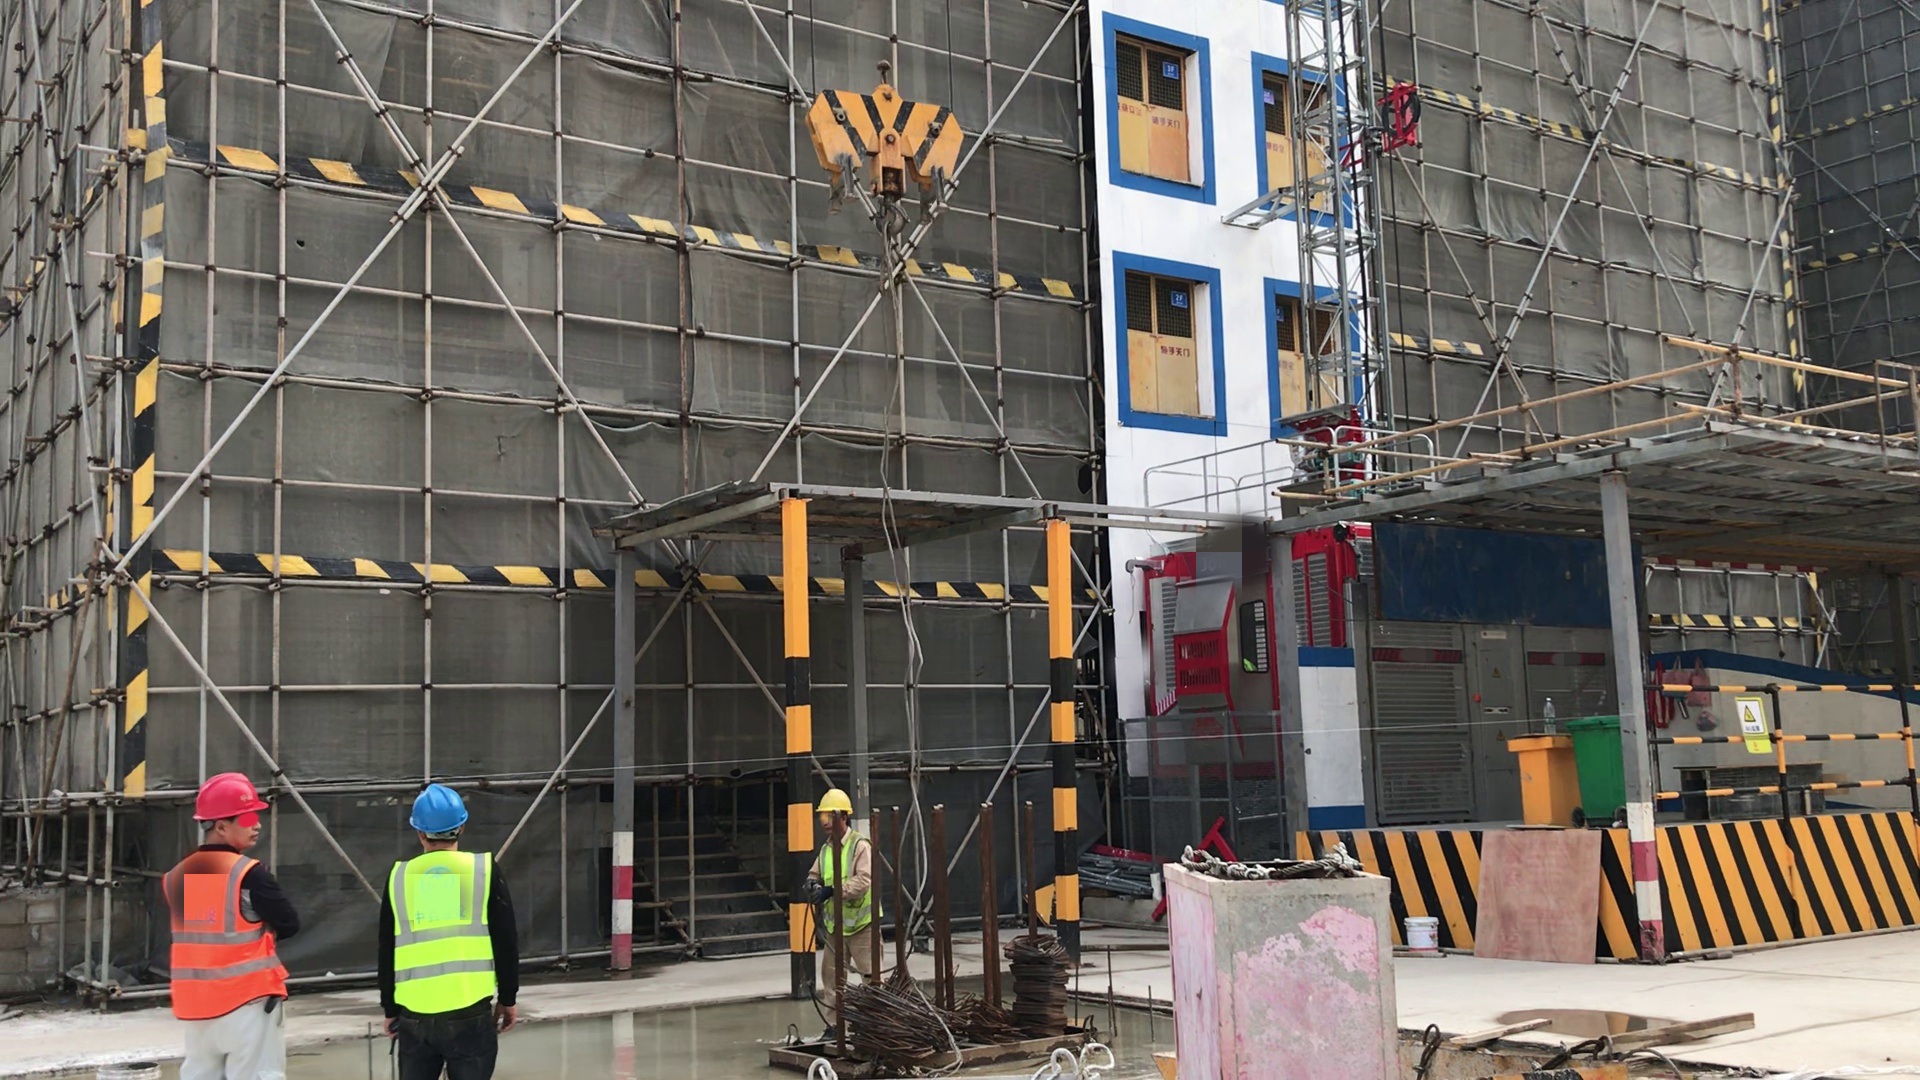helmet: (404, 778, 470, 833), (194, 772, 270, 818), (815, 789, 853, 816)
hook: (807, 84, 961, 233)
person: (375, 776, 524, 1080), (163, 772, 297, 1080), (795, 795, 886, 1037)
slogan: (1734, 696, 1772, 758)
vest: (160, 849, 291, 1020), (385, 846, 500, 1015), (815, 831, 879, 938)
